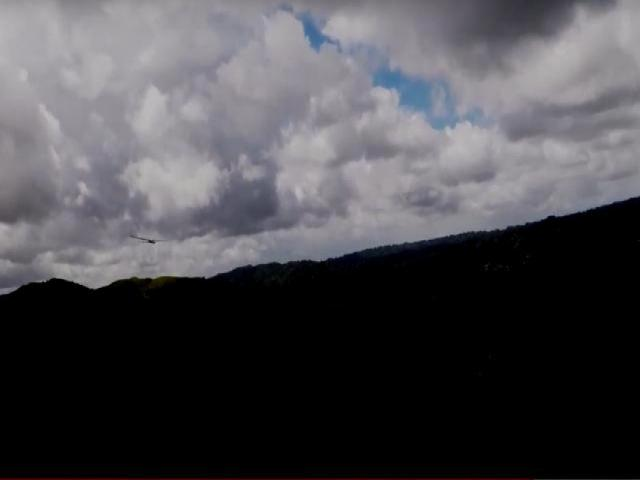iha: (127, 223, 169, 250)
